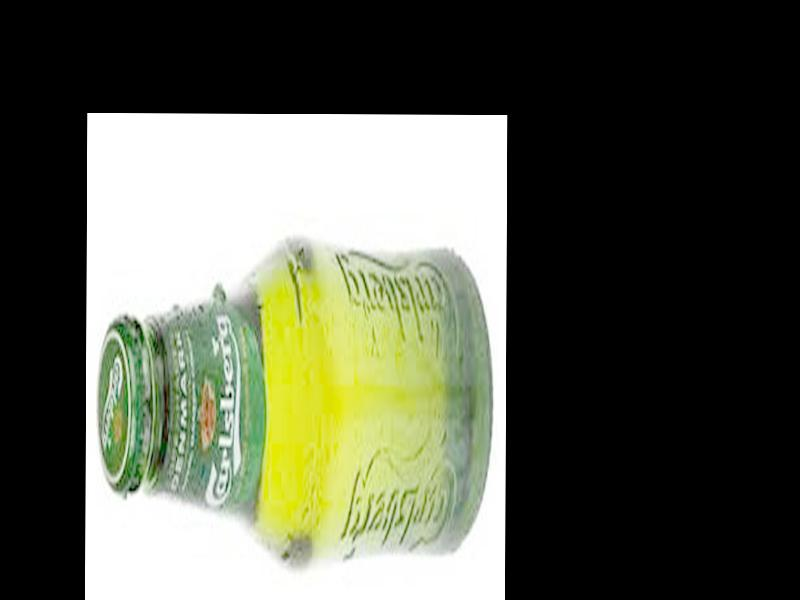Beer: (97, 239, 495, 562)
